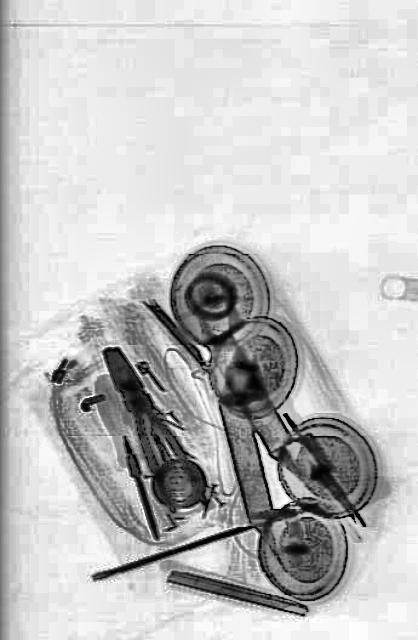Pliers: (94, 327, 206, 525)
